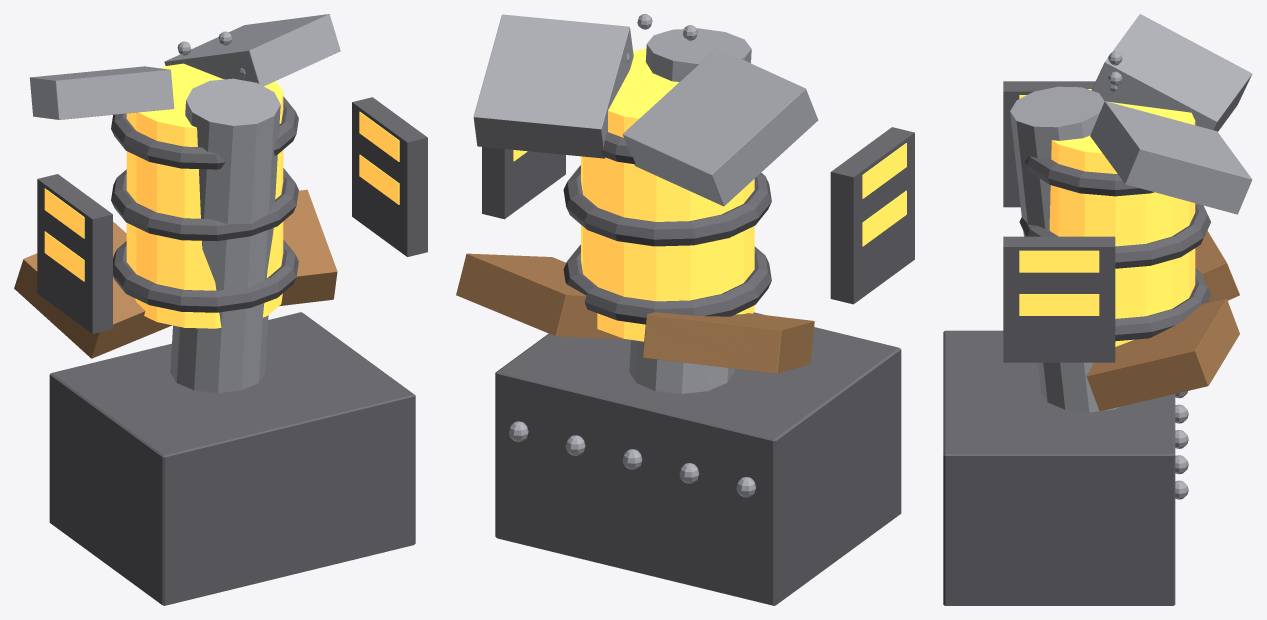
The model's file is torso-bruiser3.glb.
3 renders of one model, left to right at view 1: azimuth 30°, elevation 25°; view 2: azimuth 150°, elevation 25°; view 3: azimuth 270°, elevation 25°, orthographic. The views are drawn at different scales.
Parts seen in each view (by area): view 1: pelvis, spine, magmacore, ventwell-0.23, ventwell0.23, plate_tl, plate_tr, corering0, plate_lr, corering1, plate_ll, corering2 (+4 smaller); view 2: pelvis, magmacore, plate_tl, plate_tr, ventwell-0.23, plate_lr, plate_ll, spine, corering1, corering0, ventwell0.23, ventglow-0.23 (+2 smaller); view 3: pelvis, magmacore, ventwell0.23, plate_tl, plate_tr, plate_ll, spine, corering1, corering2, ventwell-0.23, corering0, ventglow20.23 (+2 smaller).
Boxes of the visible parts, left/top/right/bottom form: pelvis: left=49, top=312, right=415, bottom=605; spine: left=170, top=78, right=280, bottom=392; magmacore: left=126, top=63, right=283, bottom=328; ventwell-0.23: left=37, top=174, right=112, bottom=333; ventwell0.23: left=352, top=97, right=427, bottom=256; plate_tl: left=164, top=14, right=340, bottom=86; plate_tr: left=29, top=66, right=174, bottom=119; corering0: left=113, top=240, right=298, bottom=312; plate_lr: left=14, top=222, right=171, bottom=358; corering1: left=111, top=168, right=298, bottom=241; plate_ll: left=279, top=189, right=337, bottom=305; corering2: left=111, top=96, right=298, bottom=169; pelvis: left=495, top=312, right=901, bottom=605; magmacore: left=581, top=48, right=754, bottom=341; plate_tl: left=473, top=14, right=633, bottom=158; plate_tr: left=622, top=48, right=818, bottom=206; ventwell-0.23: left=830, top=127, right=914, bottom=304; plate_lr: left=642, top=312, right=814, bottom=373; plate_ll: left=456, top=253, right=625, bottom=339; spine: left=629, top=28, right=751, bottom=393; corering1: left=563, top=165, right=771, bottom=246; corering0: left=563, top=245, right=771, bottom=324; ventwell0.23: left=482, top=147, right=565, bottom=219; ventglow-0.23: left=862, top=190, right=906, bottom=246; pelvis: left=943, top=330, right=1175, bottom=605; magmacore: left=1049, top=89, right=1195, bottom=346; ventwell0.23: left=1003, top=236, right=1115, bottom=362; plate_tl: left=1090, top=101, right=1252, bottom=214; plate_tr: left=1091, top=14, right=1252, bottom=131; plate_ll: left=1086, top=298, right=1239, bottom=411; spine: left=1010, top=86, right=1120, bottom=412; corering1: left=1019, top=203, right=1210, bottom=268; corering2: left=1025, top=156, right=1153, bottom=196; ventwell-0.23: left=1003, top=81, right=1095, bottom=207; corering0: left=1115, top=268, right=1210, bottom=341; ventglow20.23: left=1019, top=250, right=1099, bottom=272.
Bounding box in the file's own units: 0.492 × 0.666 × 0.3866.
